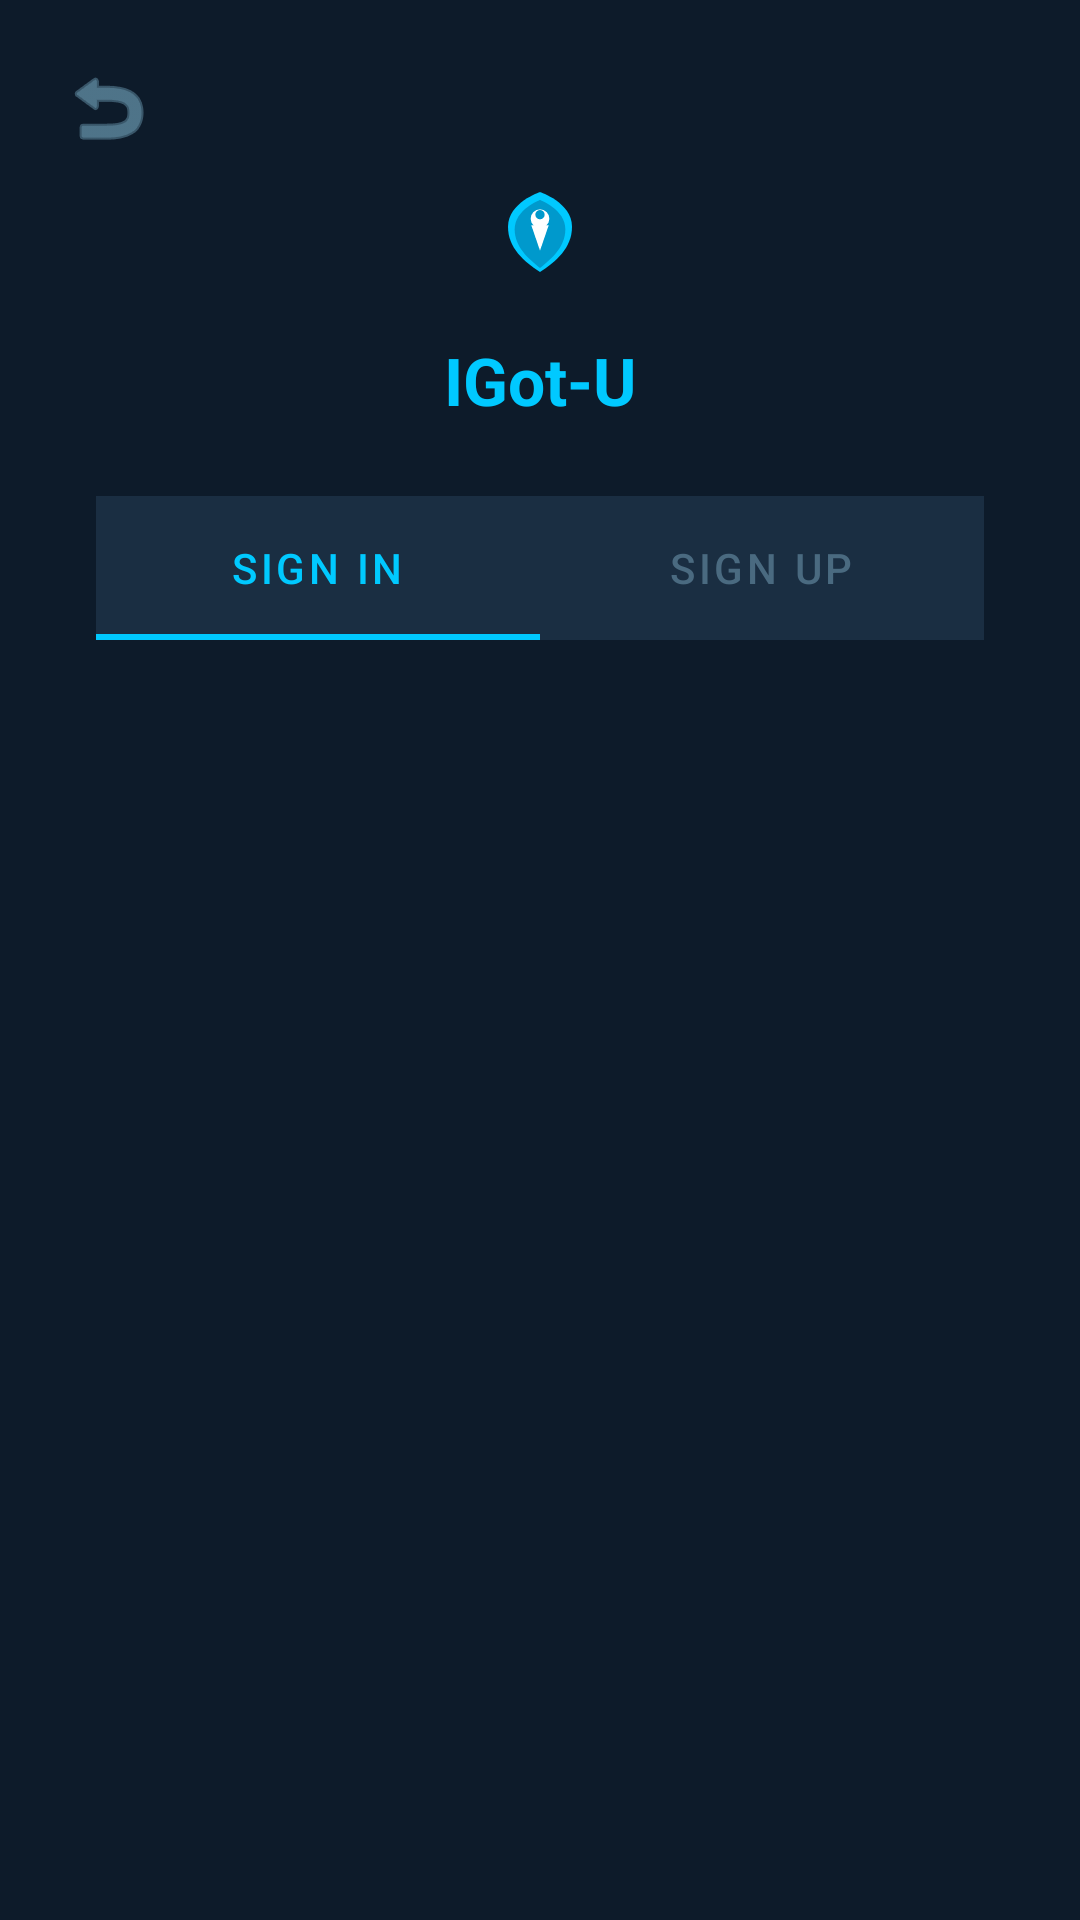

Icons on this 1080px x 1920px Android screen, each with the point to tap as (x,y):
revert: (109,109)
